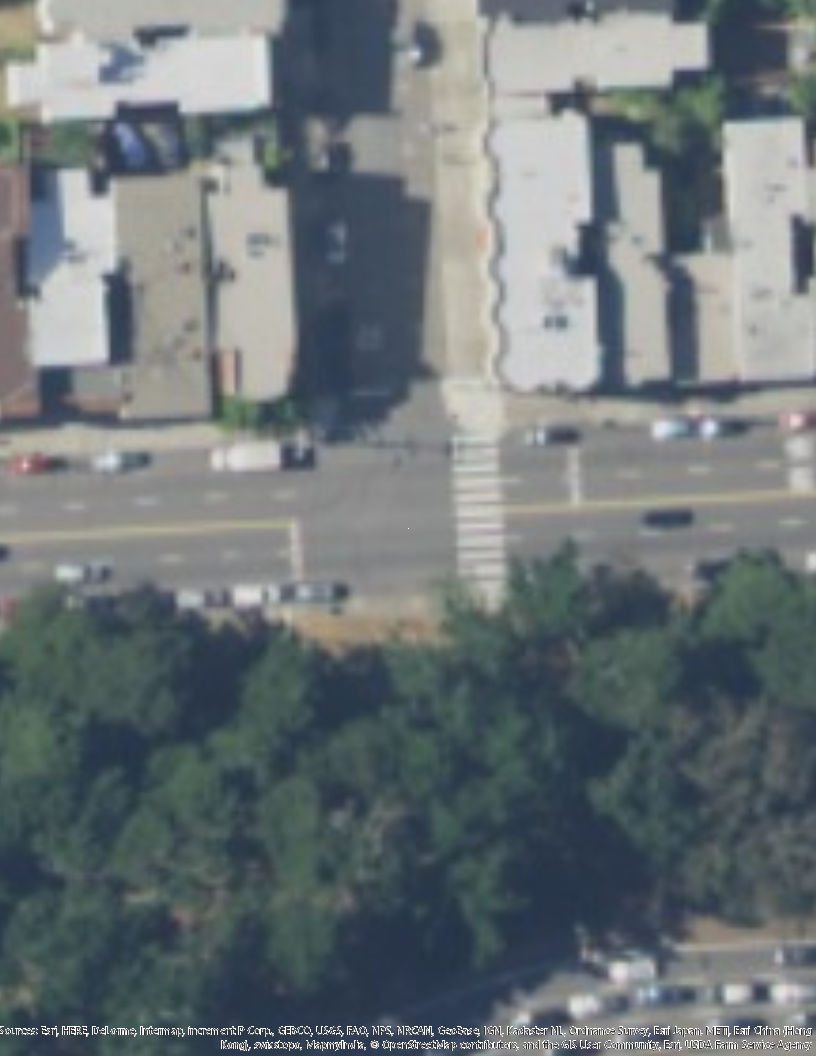zebracross: (447, 433, 512, 596)
